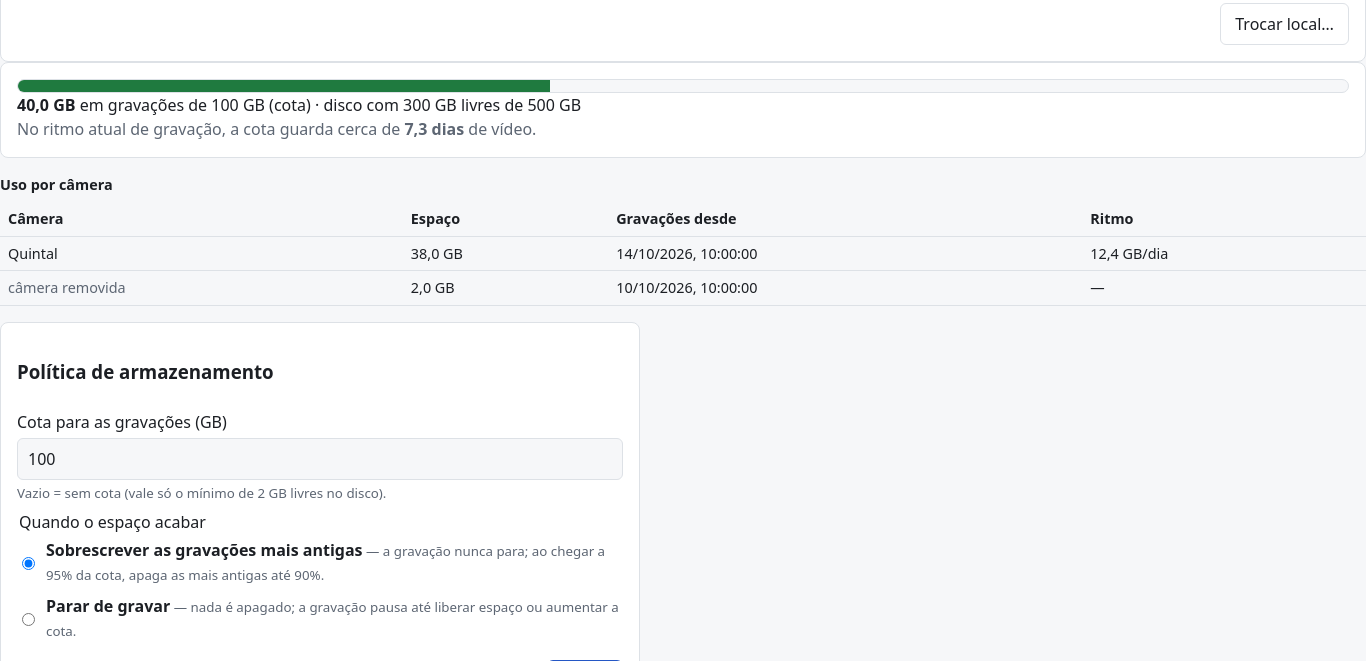
it: StoragePage › reduzir a cota abaixo do uso pede confirmação antes de apagar
This screenshot has width=1366, height=661.
Replace the text in the field labelled "Cota para as gravações" with "30" at {"x": 320, "y": 459}, box [17,438,623,480]
(page scrolled)
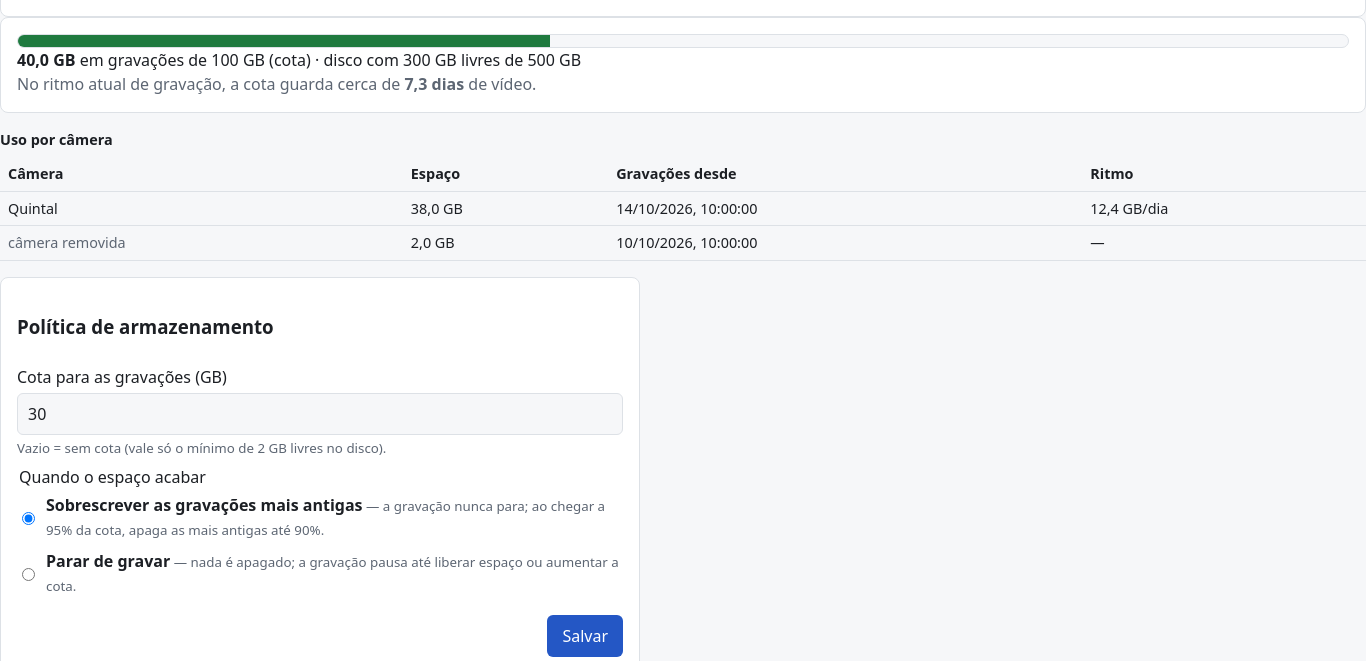
Click the button "Salvar" at {"x": 585, "y": 636}, box [547,615,623,657]
(page scrolled)
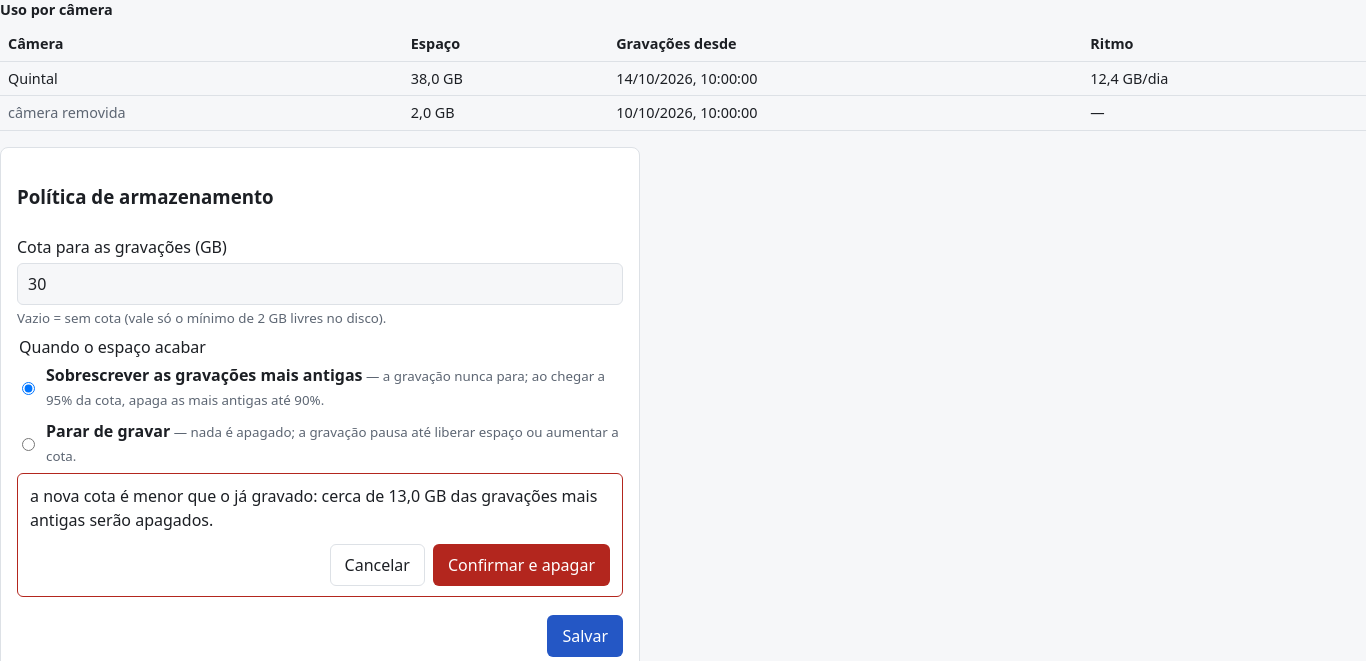
Now the dialog named "Confirmar exclusão" shows "13,0 GB das gravações mais antigas serão apagados", box [30,485,597,531]
Click the button "Confirmar e apagar" at {"x": 522, "y": 565}, box [433,544,610,586]
(page scrolled)
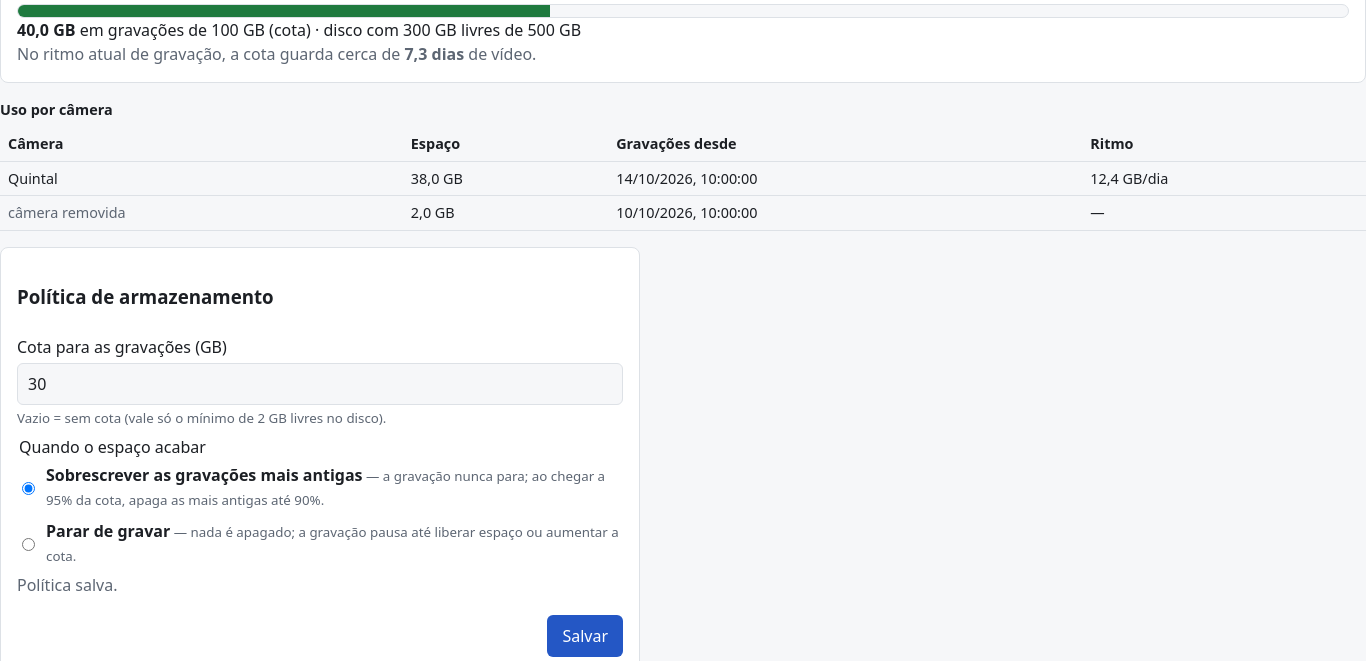
Now the dialog is gone
